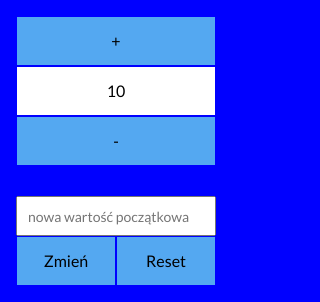
Test case: Counter E2E tests › should increment result +1 on button "+" click
The width and height of the screenshot is (320, 302).
Check: the text with test id "result" reads "10", box [16, 66, 216, 116]
Double-click the button with test id "additionButton": coordinates (116, 41) [16, 16, 216, 66]
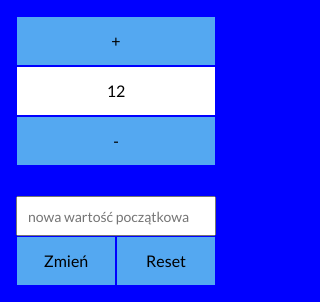
Check: the text with test id "result" reads "12", box [16, 66, 216, 116]
